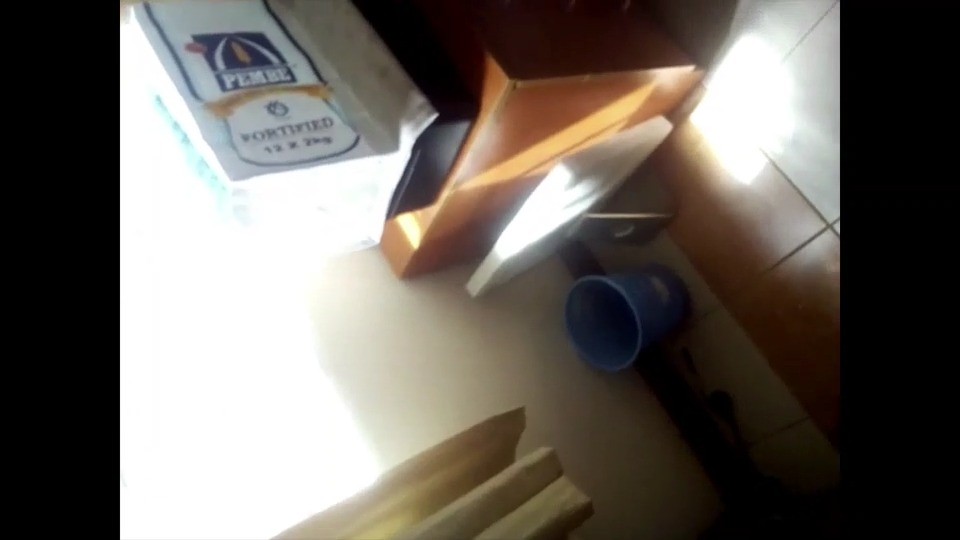wheat_flour_blue_label: (134, 0, 391, 267)
